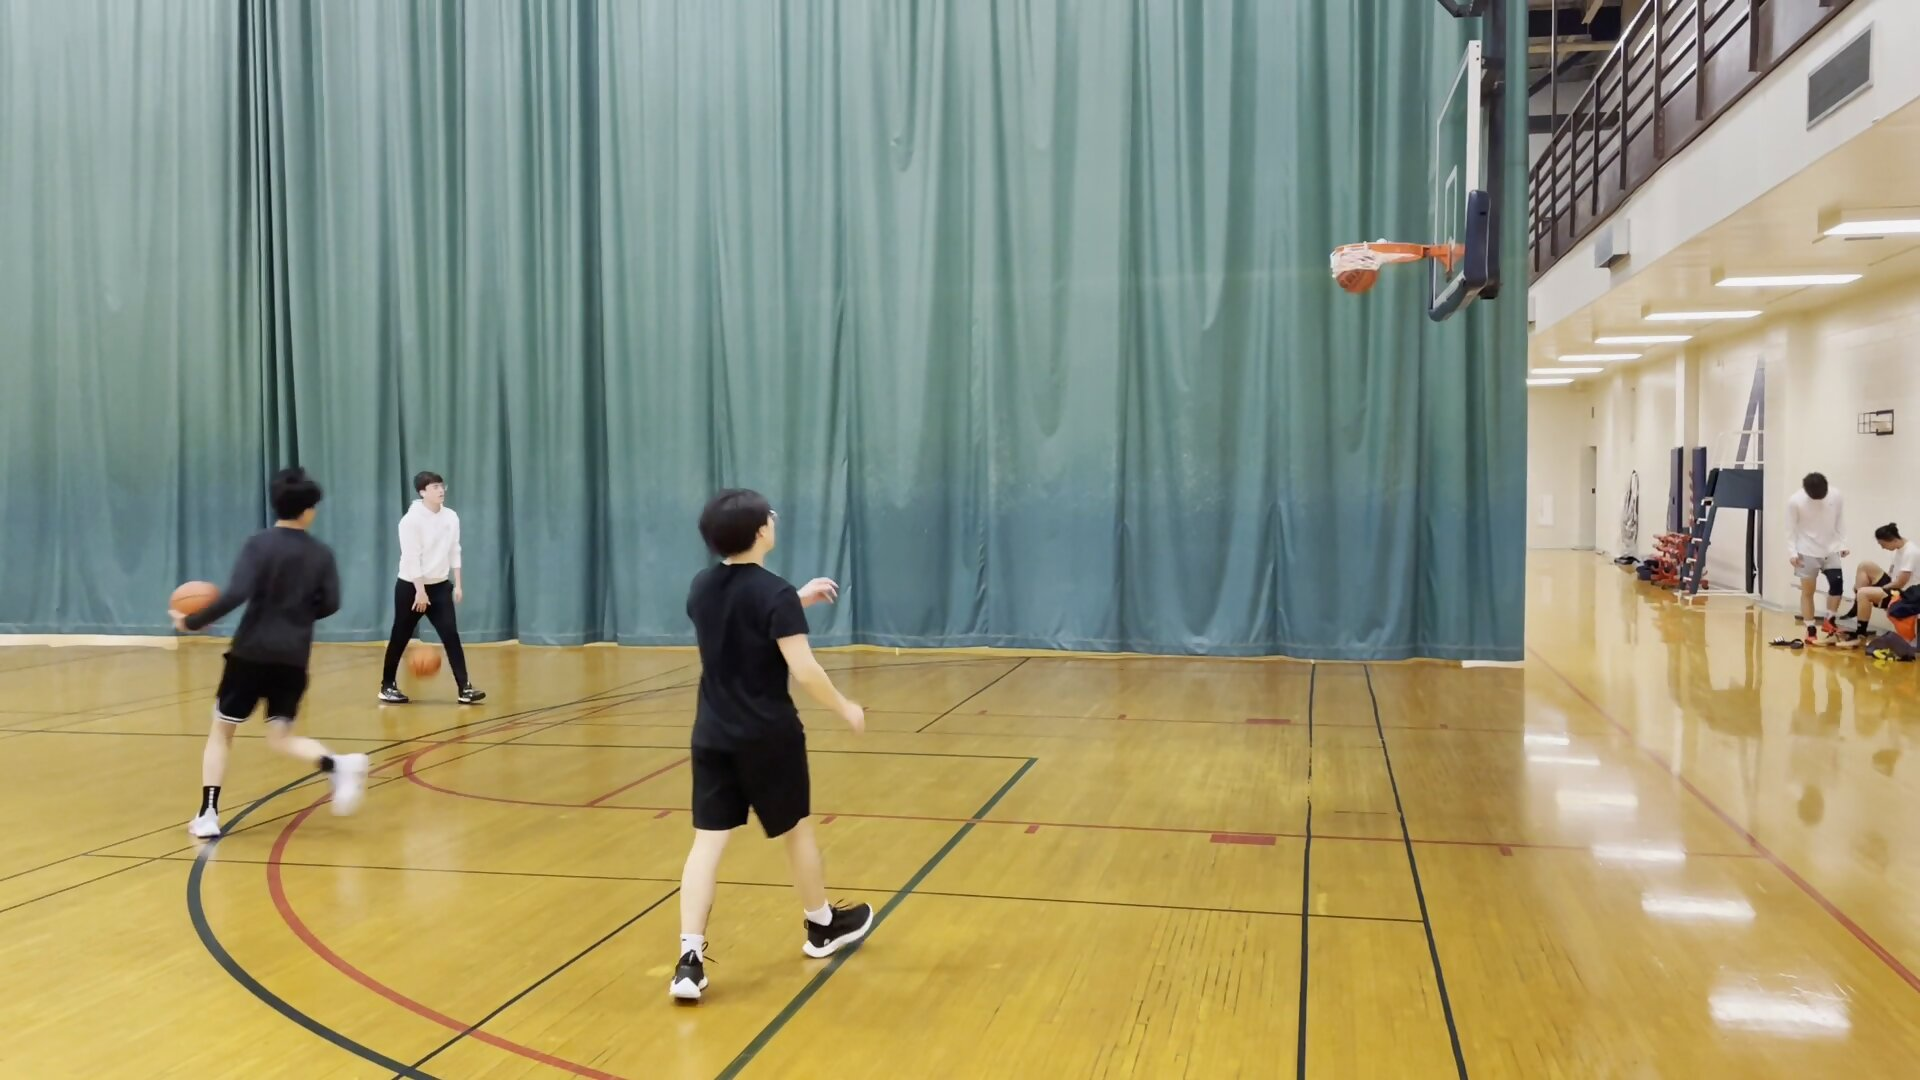ball: (167, 578, 217, 632), (1333, 259, 1383, 300), (408, 638, 440, 679)
net: (1326, 250, 1407, 273)
player: (672, 487, 872, 1002), (191, 464, 376, 835), (376, 473, 488, 710), (1781, 469, 1849, 653), (1848, 524, 1920, 653)
rim: (1322, 238, 1429, 263)
